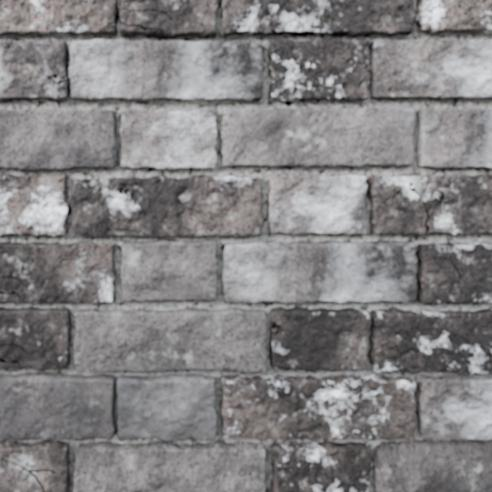brick: (220, 375, 491, 491), (74, 374, 264, 491), (0, 308, 114, 491), (222, 241, 491, 304), (0, 39, 261, 101), (269, 307, 491, 375), (268, 173, 491, 234), (74, 308, 266, 372), (71, 175, 263, 237), (220, 107, 413, 166), (219, 0, 491, 36), (0, 0, 217, 37), (369, 38, 491, 99), (0, 109, 115, 170), (0, 242, 114, 302), (268, 39, 368, 100), (120, 109, 216, 169), (122, 240, 216, 300), (417, 108, 491, 168), (0, 174, 67, 236), (0, 461, 41, 491)
broken_brick: (372, 438, 491, 491)
crack: (408, 181, 446, 235), (0, 457, 55, 491), (120, 6, 173, 20), (121, 21, 164, 35), (106, 227, 151, 237), (271, 317, 282, 335), (438, 438, 454, 443), (277, 365, 290, 369), (257, 54, 263, 61), (364, 178, 368, 184), (409, 439, 415, 442), (479, 439, 487, 441)
